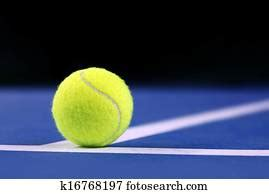tennis_ball: (51, 65, 134, 147)
